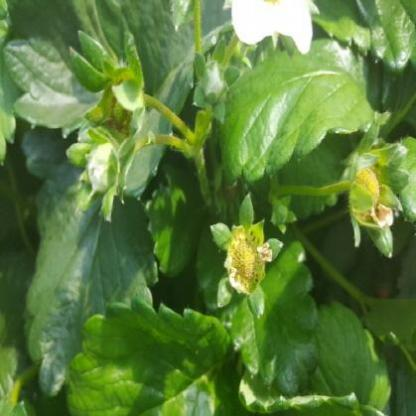Strawberry_Blossom_Blight: (224, 230, 272, 294)
